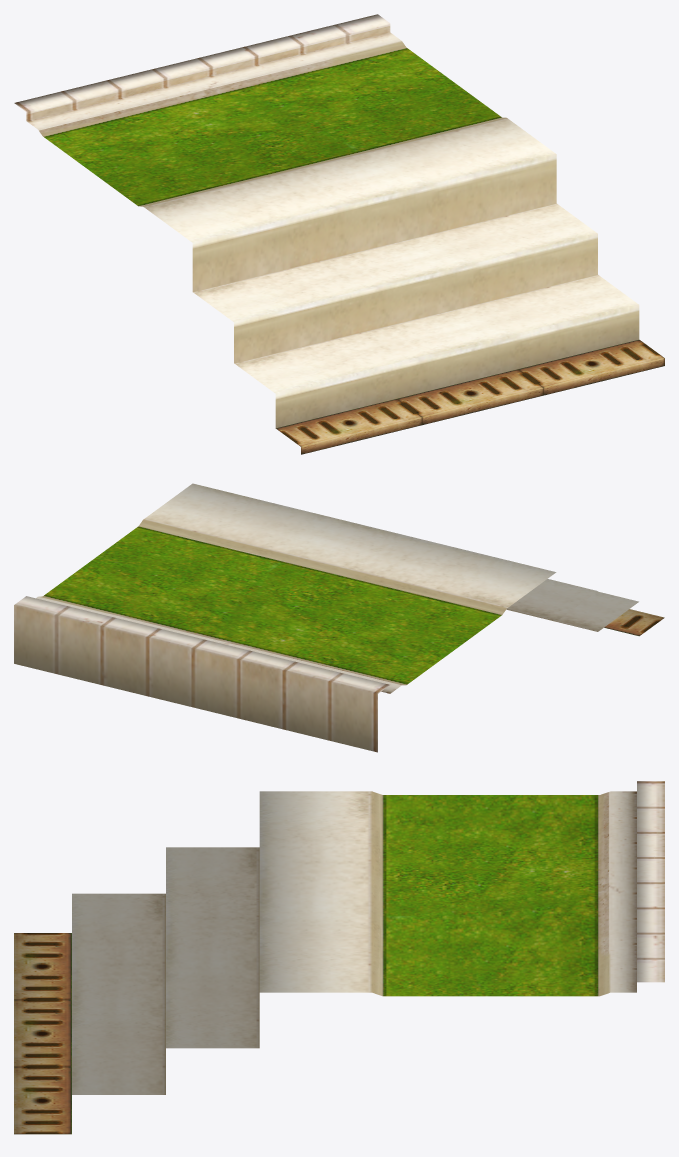
The model's file is a_SEstand01.glb.
3 renders of one model, top to bottom at view 1: azimuth 30°, elevation 25°; view 2: azimuth 150°, elevation 25°; view 3: azimuth 270°, elevation 25°, orthographic. The views are drawn at different scales.
Parts seen in each view (by area): view 1: a_SEstand01; view 2: a_SEstand01; view 3: a_SEstand01.
Part boxes in pixels (<box>): a_SEstand01: <box>14,14,664,454</box>; a_SEstand01: <box>14,483,664,752</box>; a_SEstand01: <box>14,781,664,1134</box>.
Bounding box in the file's own units: 6 × 2.23 × 8.2.
Materials: 1 (1 with a texture image).
